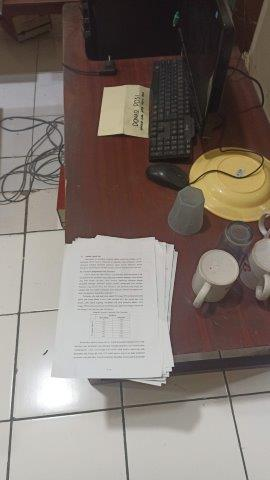kertas: (57, 234, 175, 388)
